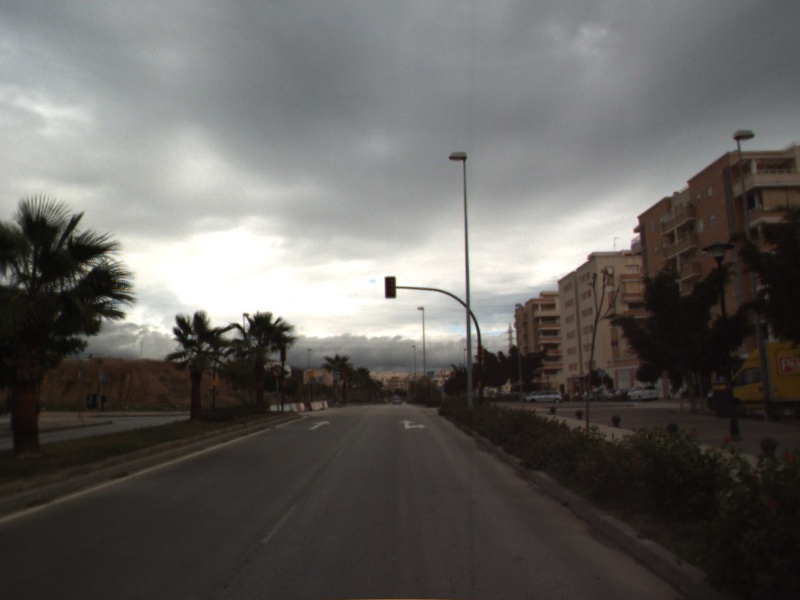STRAIGHT: (307, 418, 333, 432)
STRAIGHT_RIGHT: (397, 418, 428, 431)
